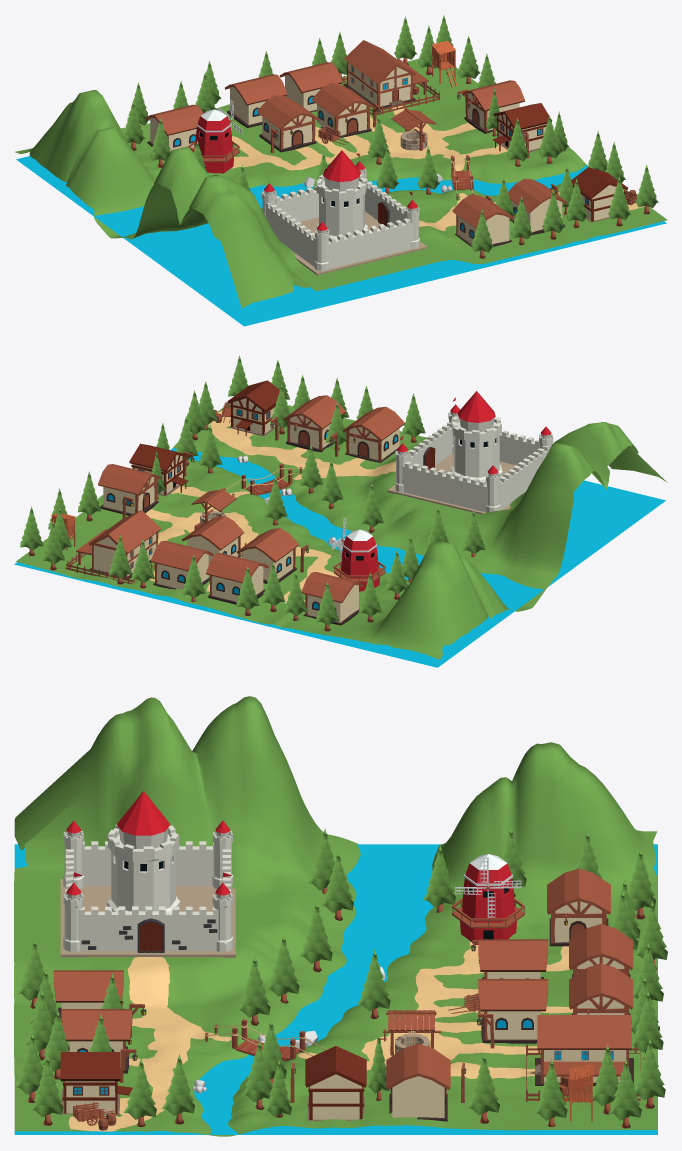
The model's file is medieval_village.glb.
The picture shows the model from 3 angles, top to bottom: view 1: azimuth 30°, elevation 25°; view 2: azimuth 150°, elevation 25°; view 3: azimuth 270°, elevation 25°; orthographic projection. The views are drawn at different scales.
Parts seen in each view (by area): view 1: Ground, River, Castle, Home3, Home1.008, Home1.004, Wind mill, Home1.002, Home1.009, Home1.007, Home2.001, Home1.001 (+22 smaller); view 2: Ground, River, Castle, Home3, Home1.002, Home1.007, Wind mill, Home1.003, Home2, Home1.009, Home1.001, Home1.005 (+28 smaller); view 3: Ground, Castle, River, Home3, Wind mill, Home1.007, Home2.001, Home1.004, Home1.005, Home2, Home1.001, Home1.008 (+34 smaller).
Part boxes in pixels (x1,y1,x2,y2): Ground: (15,59,667,308); River: (16,156,666,326); Castle: (262,150,427,275); Home3: (343,40,428,109); Home1.008: (257,95,318,152); Home1.004: (311,83,373,137); Wind mill: (188,100,242,173); Home1.002: (452,194,514,246); Home1.009: (225,74,287,127); Home1.007: (462,80,524,133); Home2.001: (492,103,551,152); Home1.001: (279,62,342,112); Ground: (16,403,666,659); River: (14,448,665,667); Castle: (387,391,553,514); Home3: (76,510,161,578); Home1.002: (342,406,404,462); Home1.007: (98,464,160,515); Wind mill: (331,518,385,591); Home1.003: (283,395,345,452); Home2: (227,380,286,436); Home1.009: (206,553,268,604); Home1.001: (151,541,213,589); Home1.005: (301,572,364,625); Ground: (14,696,657,1136); Castle: (60,791,235,957); River: (14,844,657,1134); Home3: (535,1015,633,1085); Wind mill: (452,854,524,944); Home1.007: (386,1043,450,1121); Home2.001: (305,1046,366,1121); Home1.004: (478,979,548,1043); Home1.005: (547,868,610,946); Home2: (60,1052,132,1115); Home1.001: (569,963,633,1014); Home1.008: (478,939,548,978).
Size of the model in its own units: 136 by 38.29 by 127.
Materials: 17 (16 with a texture image).
